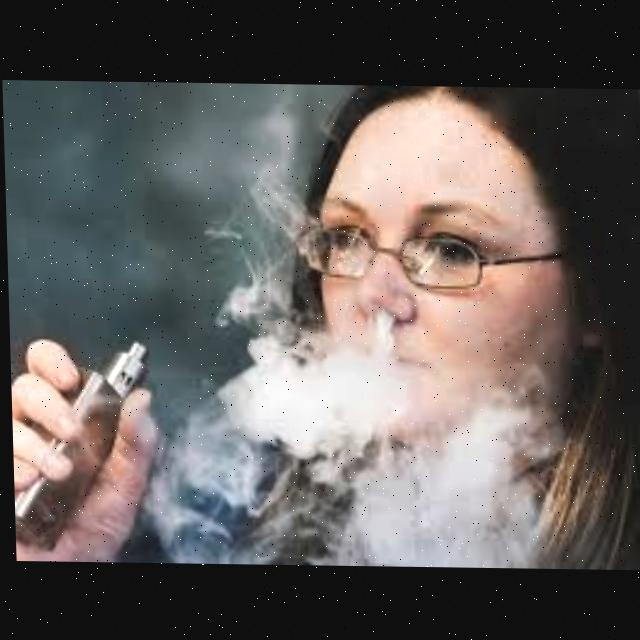vape: (8, 332, 153, 548)
